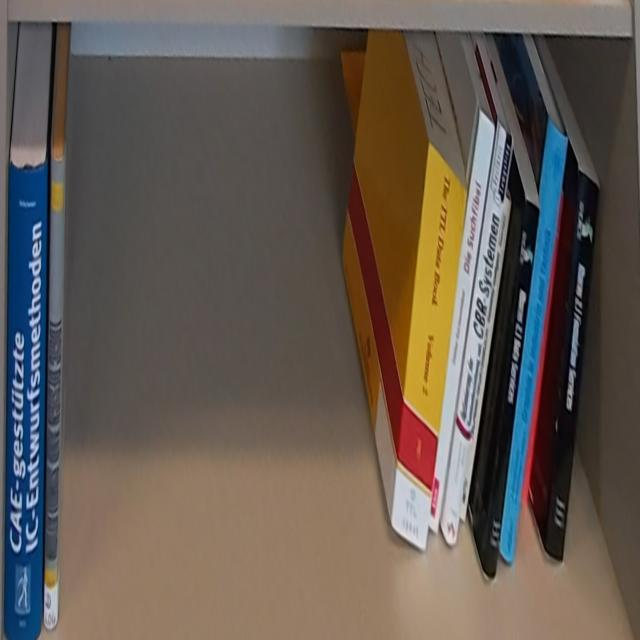Book Spine: (440, 121, 514, 552), (391, 143, 468, 555), (501, 118, 568, 563), (430, 111, 495, 538), (544, 167, 601, 563), (483, 195, 540, 579), (6, 159, 44, 640), (460, 193, 513, 526), (45, 151, 68, 637)
